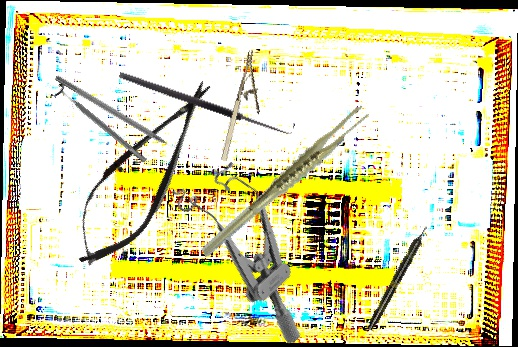Fixation Ring: (50, 81, 151, 169)
Handpiece: (365, 223, 431, 333)
Hook Surgical: (118, 62, 296, 139), (53, 74, 185, 158)
Micro Scissor: (53, 64, 234, 281)
Needle Holder: (217, 49, 276, 167)
Speculum: (158, 148, 351, 346)
Tissue Forceps: (179, 103, 390, 259)
